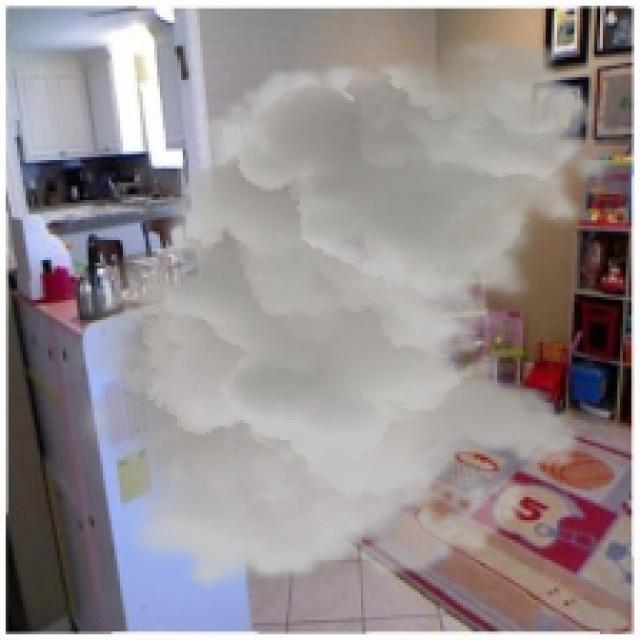smoke: (57, 34, 617, 594)
